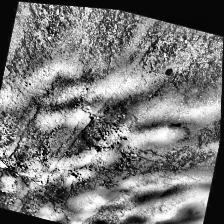pothole: (0, 148, 82, 224), (71, 104, 137, 168)
